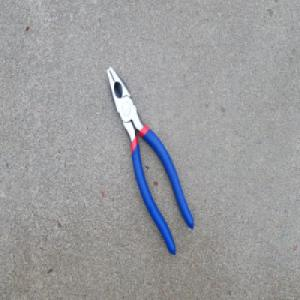Pliers: (104, 65, 194, 258)
